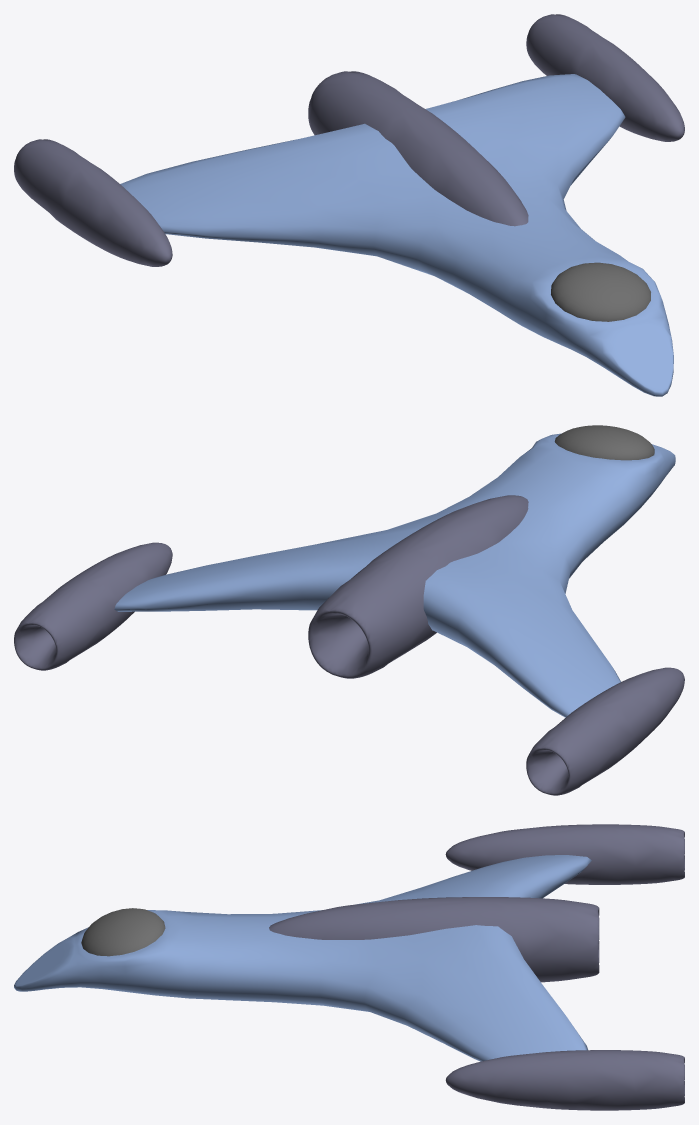
File: civilian.fbx
The picture shows the model from 3 angles, top to bottom: view 1: azimuth 30°, elevation 25°; view 2: azimuth 150°, elevation 25°; view 3: azimuth 270°, elevation 25°; orthographic projection. The views are drawn at different scales.
Parts seen in each view (by area): view 1: body, topJet, rightJet, leftJet, cockpit; view 2: body, topJet, rightJet, leftJet, cockpit; view 3: body, topJet, leftJet, rightJet, cockpit.
Part boxes in pixels (x1,y1,x2,y2): body: (120,74,673,396); topJet: (308,71,528,226); rightJet: (14,139,172,266); leftJet: (526,14,684,141); cockpit: (551,262,650,321); body: (114,433,675,717); topJet: (308,495,528,678); rightJet: (526,667,684,795); leftJet: (14,542,172,670); cockpit: (554,425,654,460); body: (14,855,591,1061); topJet: (269,897,599,982); leftJet: (445,1050,684,1110); rightJet: (445,824,684,884); cockpit: (81,908,165,956).
Bounding box in the file's own units: 5.35 × 0.9354 × 6.04.
